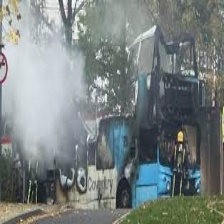smoke: (5, 42, 64, 159)
